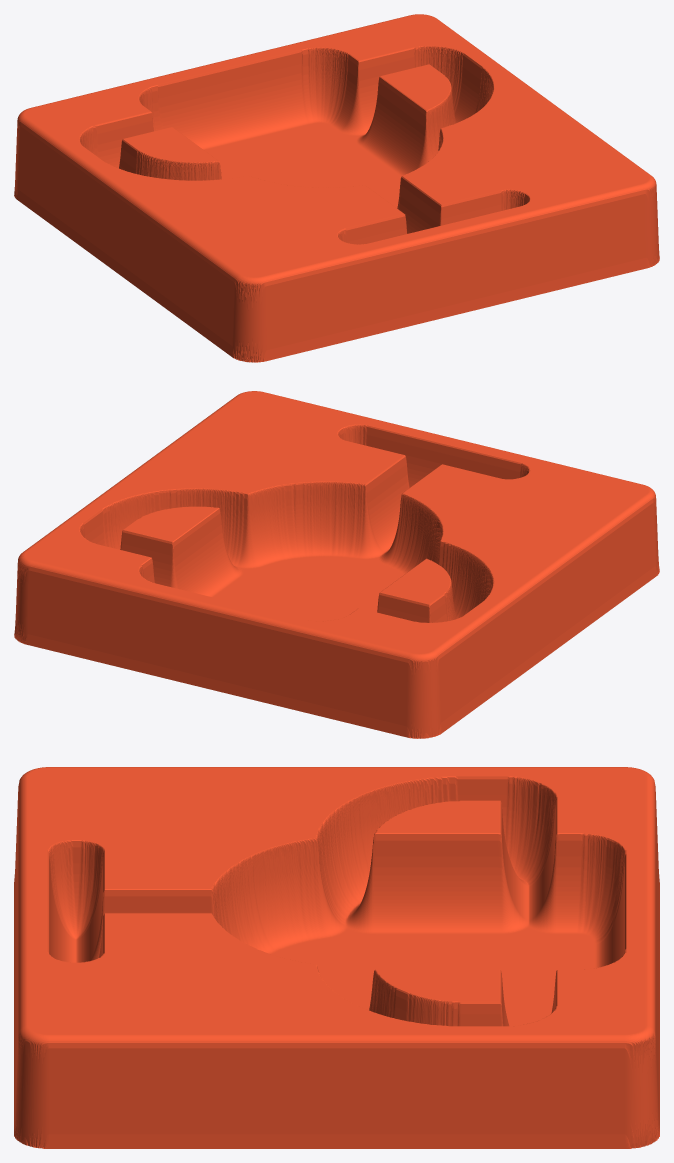
Rendered from mold.glb.
3 renders of one model, top to bottom at view 1: azimuth 30°, elevation 25°; view 2: azimuth 150°, elevation 25°; view 3: azimuth 270°, elevation 25°, orthographic. The views are drawn at different scales.
Parts seen in each view (by area): view 1: geometry_0; view 2: geometry_0; view 3: geometry_0.
Part boxes in pixels (x1=…): geometry_0: x1=14, y1=14, x2=659, y2=362; geometry_0: x1=14, y1=391, x2=659, y2=738; geometry_0: x1=14, y1=767, x2=659, y2=1148.
Bounding box in the file's own units: 0.1709 × 0.031 × 0.1675.
